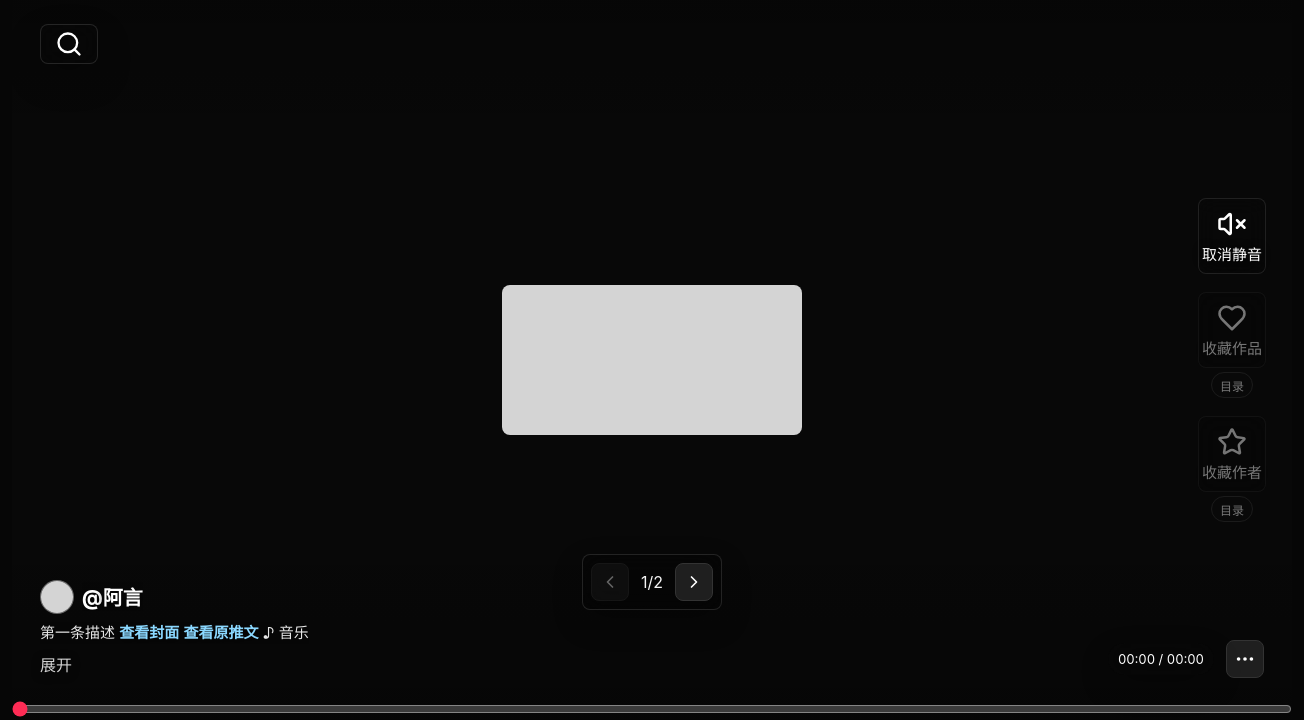
Test case: renders the advanced controls as a structured volume, playback, image, and window panel
The width and height of the screenshot is (1304, 720).
Click the button named "更多播放控制" at (1245, 659), box x1=1226 y1=640 x2=1264 y2=678
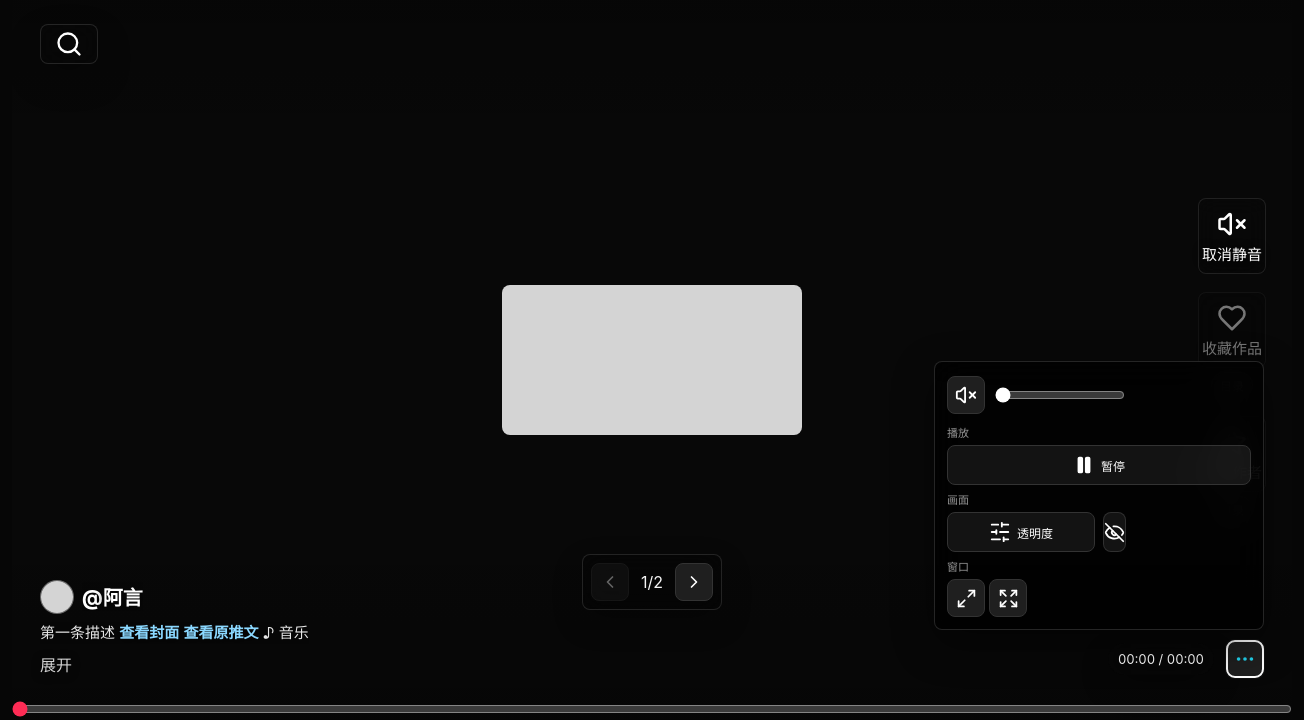
Now the element named "高级播放控制" is shown, box x1=934 y1=361 x2=1264 y2=630
Now the element named "播放设置" is shown, box x1=947 y1=428 x2=1251 y2=485
Now the element named "画面设置" is shown, box x1=947 y1=493 x2=1126 y2=552
